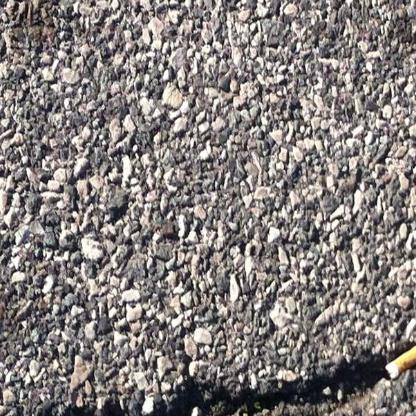Cracks: (10, 350, 394, 416)
